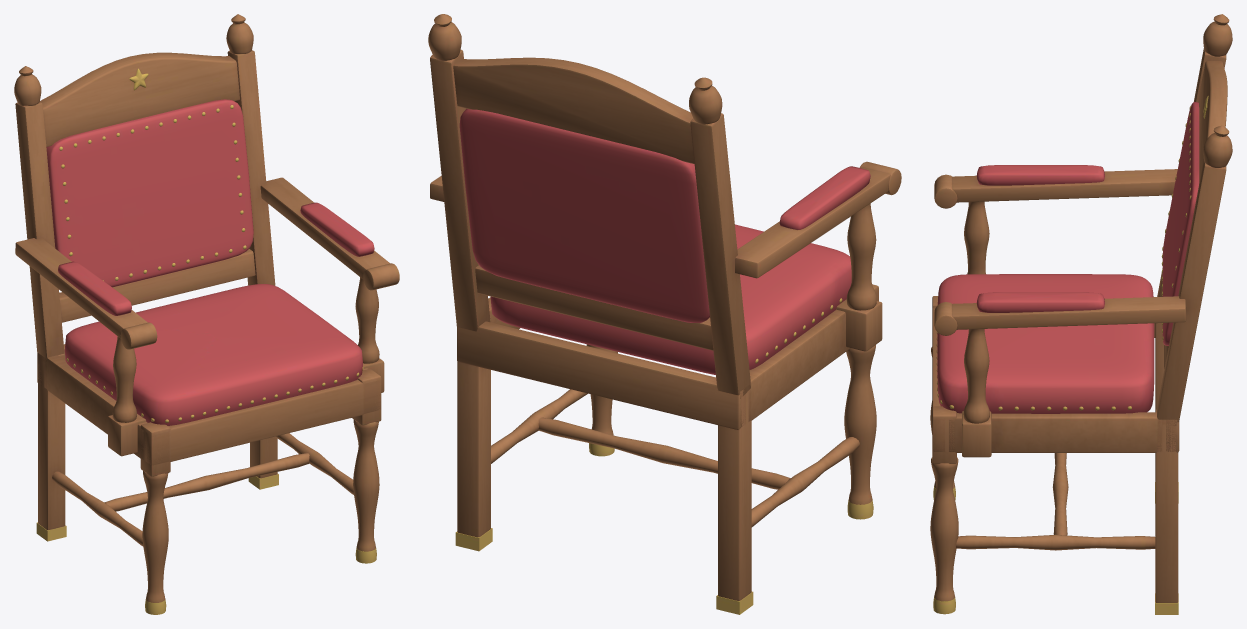
Rendered from captains-chair.glb.
3 renders of one model, left to right at view 1: azimuth 30°, elevation 25°; view 2: azimuth 150°, elevation 25°; view 3: azimuth 270°, elevation 25°, orthographic. The views are drawn at different scales.
Visible parts, largest first — view 1: captains-chair_body; view 2: captains-chair_body; view 3: captains-chair_body.
Boxes of the visible parts, x1,y1,x2,y2 form: captains-chair_body: (14, 14, 399, 614); captains-chair_body: (428, 14, 901, 614); captains-chair_body: (930, 14, 1232, 614).
Bounding box in the file's own units: 0.678 × 1.08 × 0.6118.
Materials: 1 (1 with a texture image).
